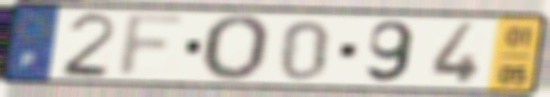0: (279, 18, 335, 81)
2: (59, 10, 119, 79)
4: (426, 21, 483, 87)
9: (363, 19, 417, 85)
F: (112, 12, 192, 80)
O: (200, 13, 275, 84)
